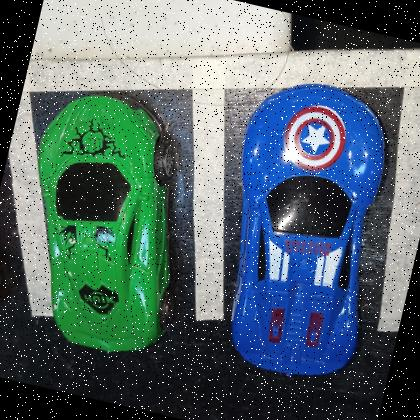Car: (230, 83, 386, 375), (36, 93, 170, 351)
